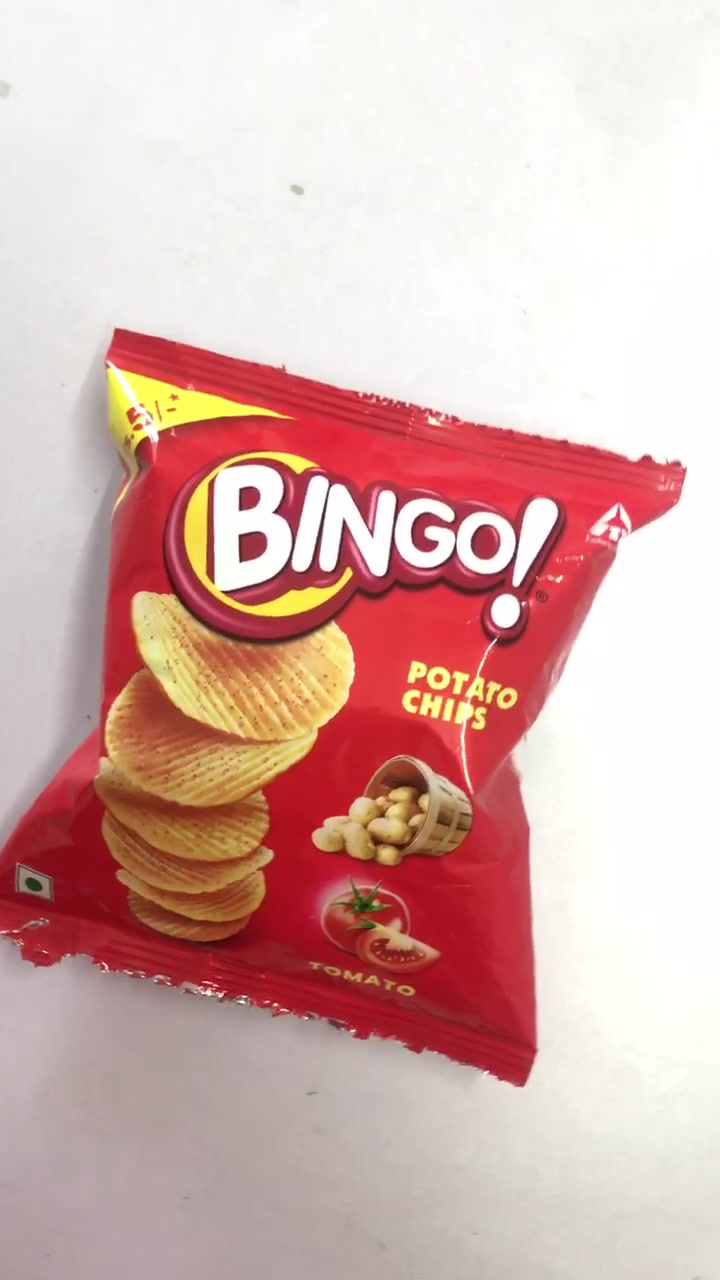Bingo: (1, 331, 684, 1077)
